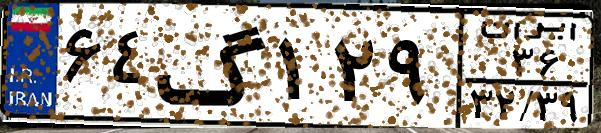1: (270, 28, 330, 110)
2: (330, 28, 385, 110), (495, 70, 520, 125)
3: (508, 27, 537, 80), (470, 70, 495, 125), (535, 70, 560, 125)
4: (110, 28, 156, 98)
6: (57, 26, 110, 100), (537, 27, 568, 80)
9: (385, 28, 445, 110), (560, 70, 590, 125)
گ: (156, 12, 270, 120)
